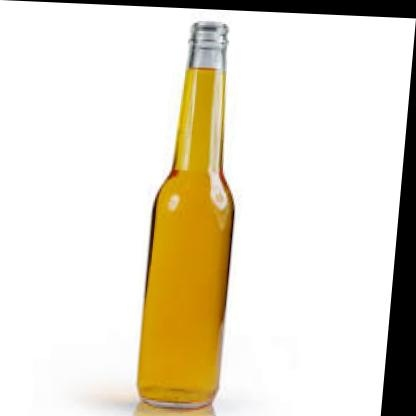trash: (138, 21, 233, 407)
